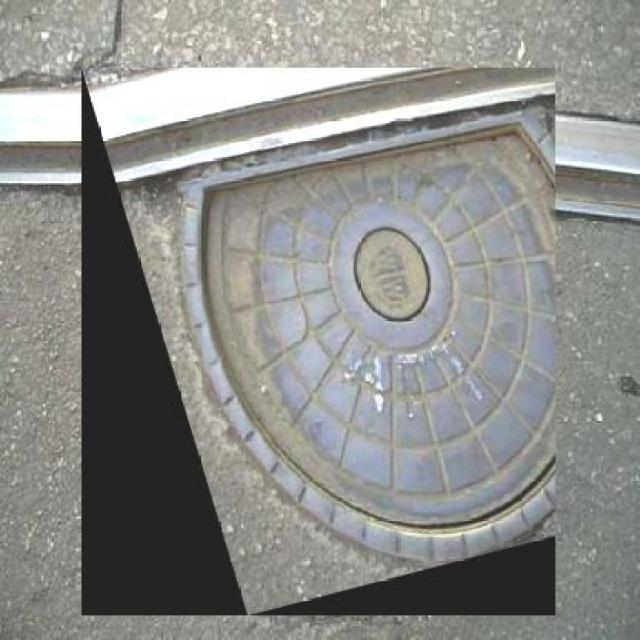Manhole: (82, 69, 556, 616)
